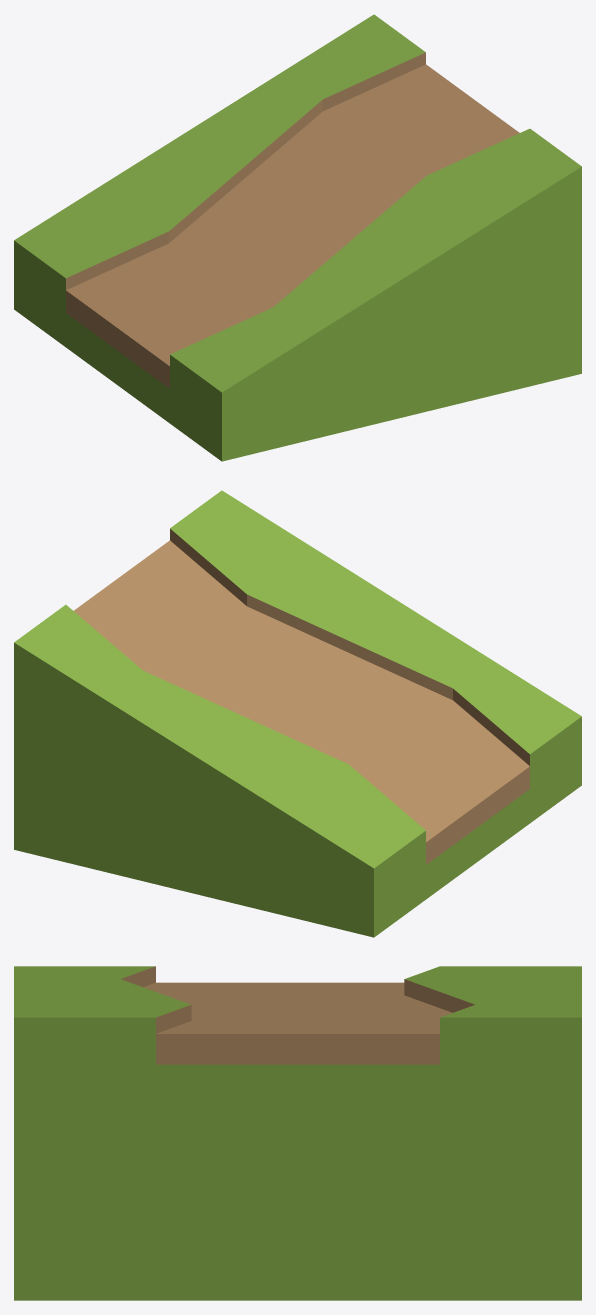
The model's file is tile198.obj.
3 views of the same model, one above another, from view 1: azimuth 30°, elevation 25°; view 2: azimuth 150°, elevation 25°; view 3: azimuth 270°, elevation 25° (orthographic). The views are drawn at different scales.
Parts seen in each view (by area): view 1: tile198; view 2: tile198; view 3: tile198.
Part boxes in pixels (x1,y1,x2,y2): tile198: [14, 14, 581, 461]; tile198: [14, 490, 581, 937]; tile198: [14, 966, 581, 1300].
Size of the model in its own units: 1 by 0.55 by 1.
